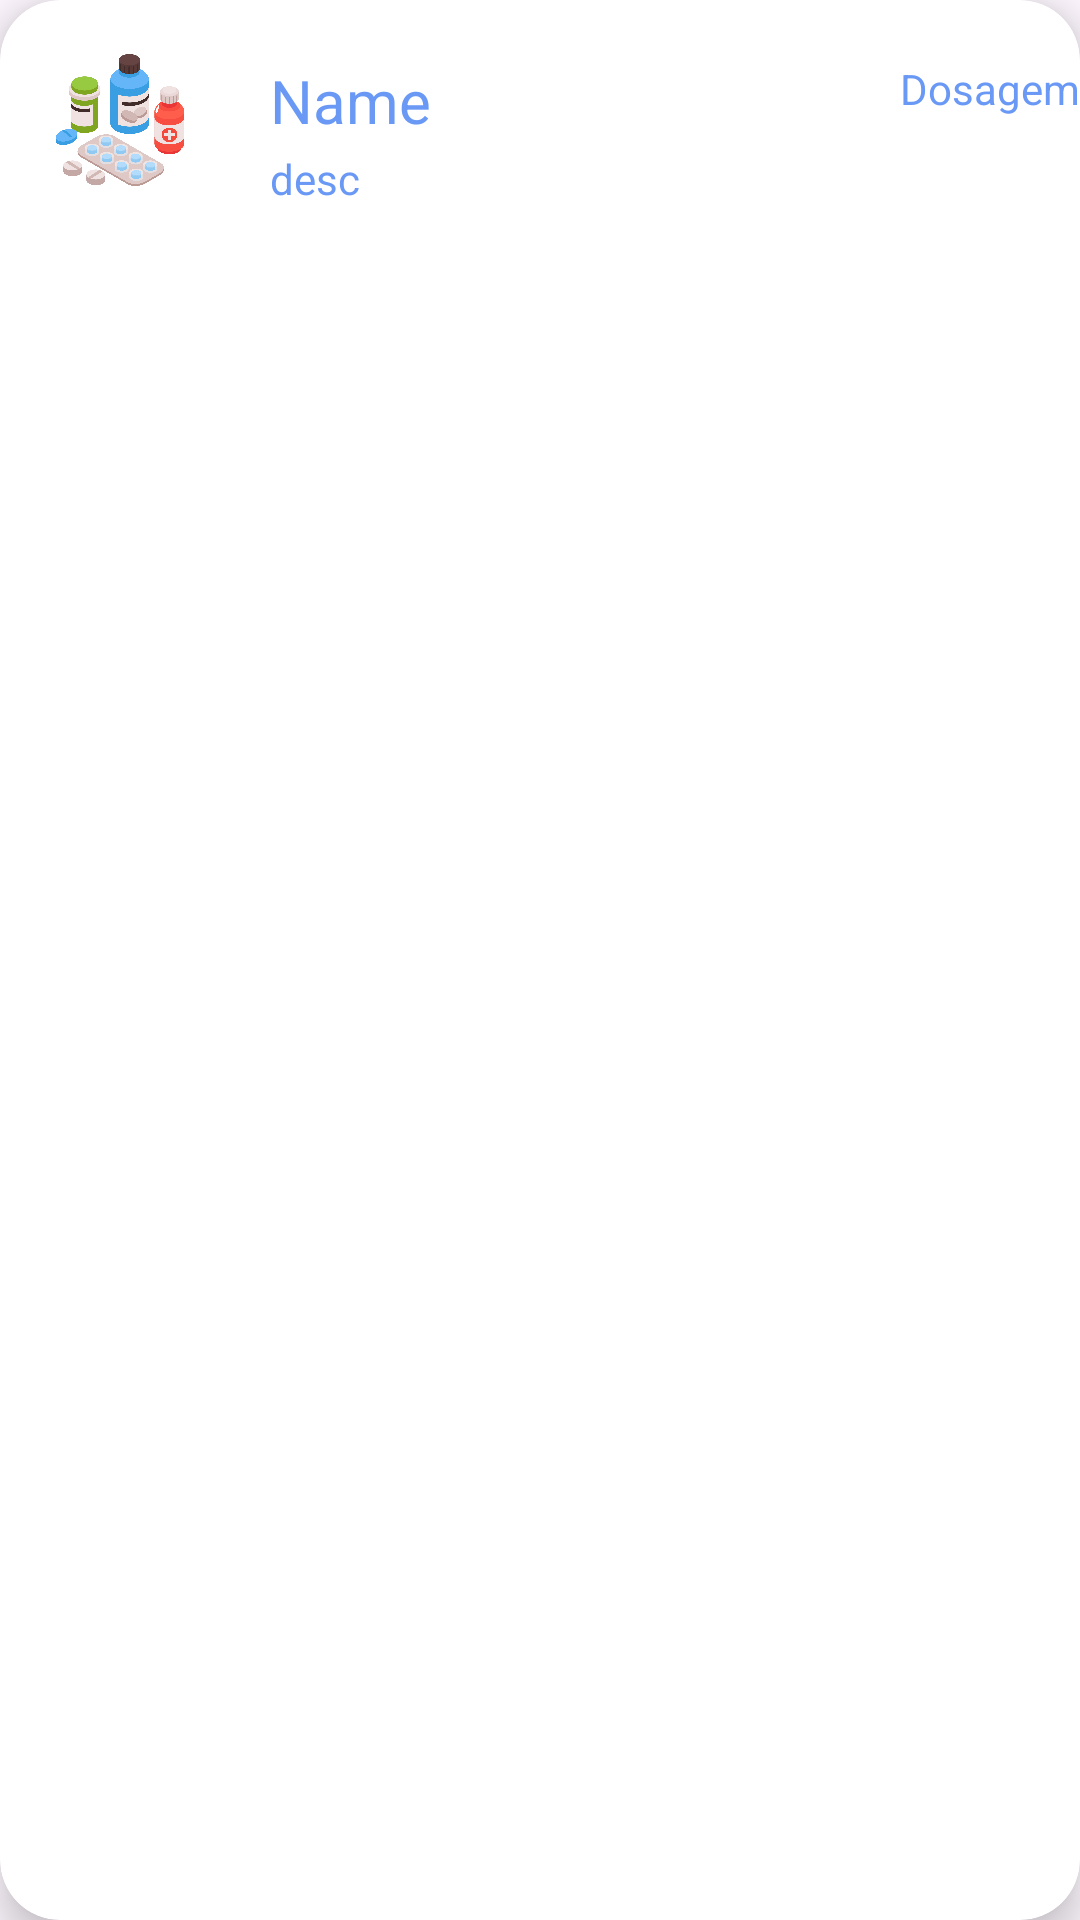

Named icons in this screenshot (1080 x 1920) and their centers, [x,y]:
medicamentos: [120,120]
